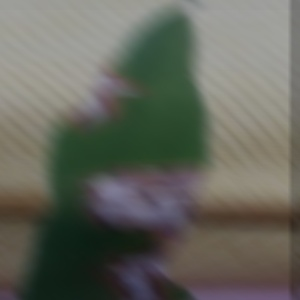Brown_Spot: (74, 156, 210, 237), (55, 70, 153, 136), (104, 246, 183, 300)
